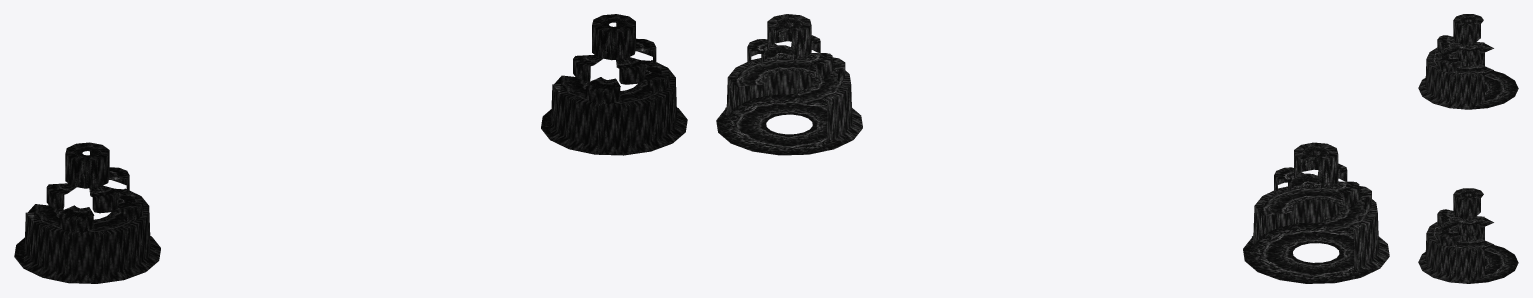
File: stg110_MotWater_17.obj
The picture shows the model from 3 angles, left to right: view 1: azimuth 30°, elevation 25°; view 2: azimuth 150°, elevation 25°; view 3: azimuth 270°, elevation 25°; orthographic projection. The views are drawn at different scales.
Visible parts, largest first — view 1: polygon1, polygon12, polygon2, polygon11, polygon6, polygon18, polygon3, polygon13, polygon4, polygon10, polygon17, polygon8 (+2 smaller); view 2: polygon19, polygon5, polygon6, polygon18, polygon1, polygon12, polygon0, polygon14, polygon2, polygon11, polygon3, polygon13 (+2 smaller); view 3: polygon12, polygon1, polygon5, polygon19, polygon2, polygon11, polygon18, polygon6, polygon13, polygon3, polygon14, polygon4 (+8 smaller).
Part boxes in pixels (bbox=[...]): polygon1: bbox=[23, 188, 160, 283]; polygon12: bbox=[550, 60, 687, 154]; polygon2: bbox=[65, 142, 109, 188]; polygon11: bbox=[592, 14, 635, 60]; polygon6: bbox=[28, 188, 133, 231]; polygon18: bbox=[554, 60, 660, 103]; polygon3: bbox=[46, 167, 129, 213]; polygon13: bbox=[573, 38, 656, 84]; polygon4: bbox=[59, 194, 143, 232]; polygon10: bbox=[586, 66, 669, 103]; polygon17: bbox=[576, 39, 652, 68]; polygon8: bbox=[49, 167, 125, 196]; polygon19: bbox=[716, 94, 861, 155]; polygon5: bbox=[1243, 222, 1387, 283]; polygon6: bbox=[1256, 187, 1368, 231]; polygon18: bbox=[729, 58, 842, 103]; polygon1: bbox=[1252, 183, 1389, 269]; polygon12: bbox=[725, 55, 862, 140]; polygon0: bbox=[1254, 186, 1386, 269]; polygon14: bbox=[727, 58, 861, 140]; polygon2: bbox=[1294, 142, 1338, 186]; polygon11: bbox=[767, 14, 811, 57]; polygon3: bbox=[1274, 163, 1359, 206]; polygon13: bbox=[747, 35, 832, 78]; polygon12: bbox=[1418, 216, 1484, 283]; polygon1: bbox=[1418, 42, 1484, 109]; polygon5: bbox=[1422, 71, 1518, 109]; polygon19: bbox=[1423, 245, 1518, 283]; polygon2: bbox=[1453, 14, 1483, 44]; polygon11: bbox=[1453, 188, 1483, 218]; polygon18: bbox=[1432, 217, 1493, 249]; polygon6: bbox=[1432, 43, 1493, 75]; polygon13: bbox=[1437, 209, 1479, 236]; polygon3: bbox=[1437, 35, 1479, 62]; polygon14: bbox=[1421, 217, 1484, 283]; polygon4: bbox=[1437, 50, 1456, 71].
Bounding box in the file's own units: 1379 × 203 × 270.
